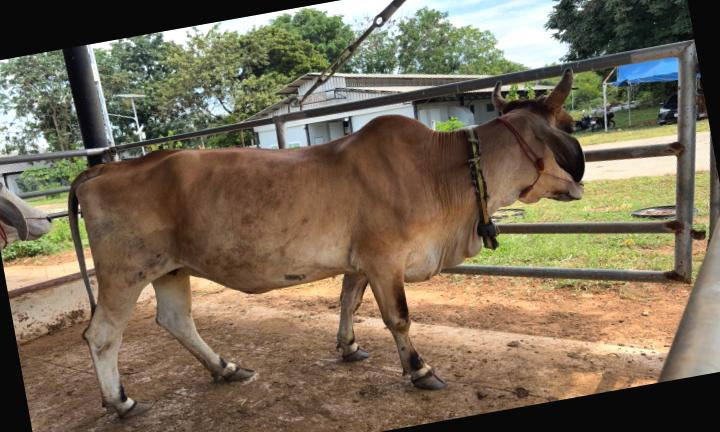Brahman: (70, 69, 584, 417)
